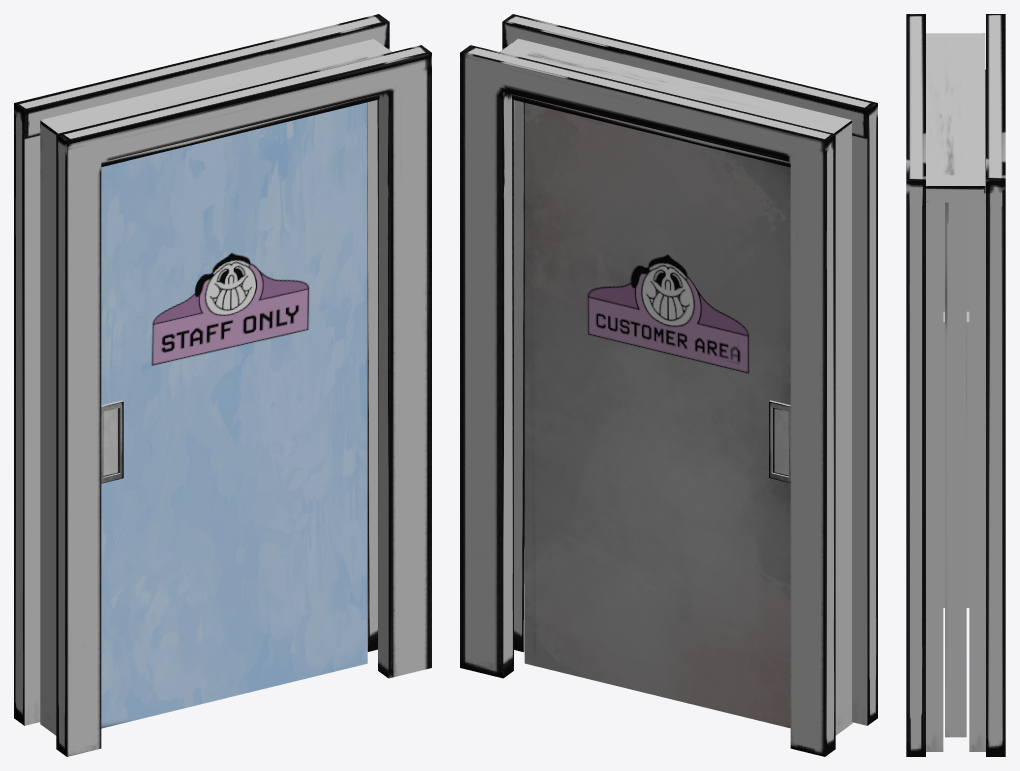
The model's file is Test Slide Door.glb.
3 views of the same model, side by side, from view 1: azimuth 30°, elevation 25°; view 2: azimuth 150°, elevation 25°; view 3: azimuth 270°, elevation 25° (orthographic). The views are drawn at different scales.
Visible parts, largest first — view 1: Sliding Door, Frame Sliding Door; view 2: Sliding Door, Frame Sliding Door; view 3: Frame Sliding Door, Sliding Door.
Part boxes in pixels (box(x1,y1,x2,y2)): Sliding Door: box(101, 102, 367, 728); Frame Sliding Door: box(14, 14, 431, 756); Sliding Door: box(524, 103, 790, 728); Frame Sliding Door: box(460, 14, 877, 756); Frame Sliding Door: box(906, 14, 1005, 756); Sliding Door: box(943, 202, 969, 737).
Bounding box in the file's own units: 13.24 × 21.38 × 3.32.
Materials: 1 (1 with a texture image).
